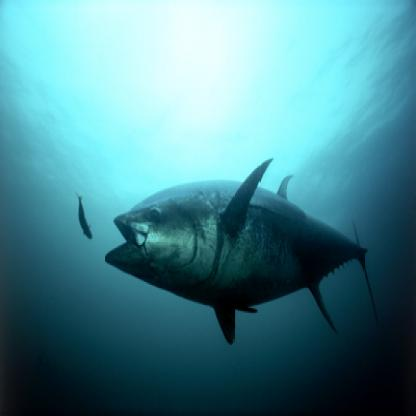Scombridae -Tunas-: (102, 152, 386, 345)
